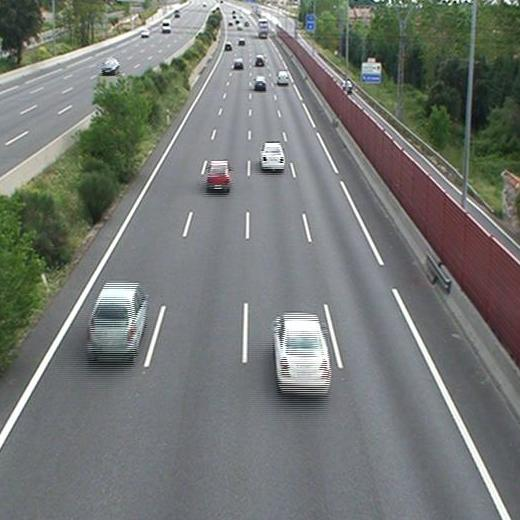car: (274, 314, 331, 392), (88, 285, 142, 356), (261, 142, 286, 169), (208, 161, 231, 190), (277, 71, 290, 84), (253, 76, 266, 89), (232, 58, 244, 69), (255, 56, 266, 66), (224, 42, 232, 50)
truck: (258, 19, 269, 39)
